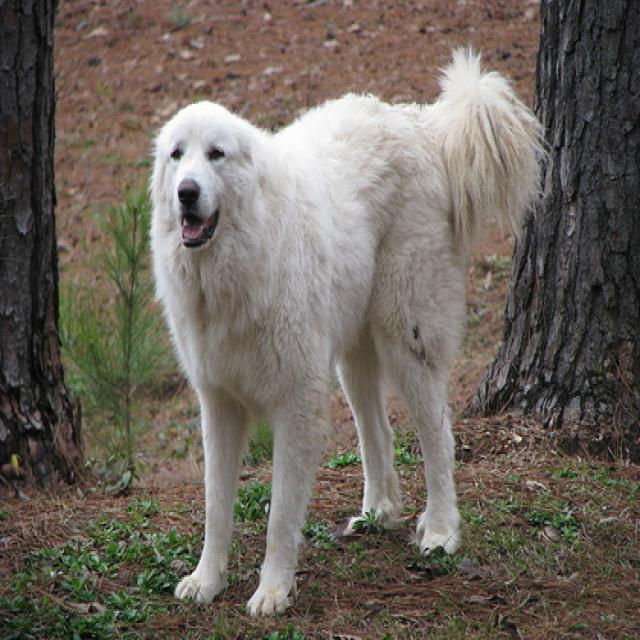dog-great_pyrenees: (142, 36, 553, 626)
